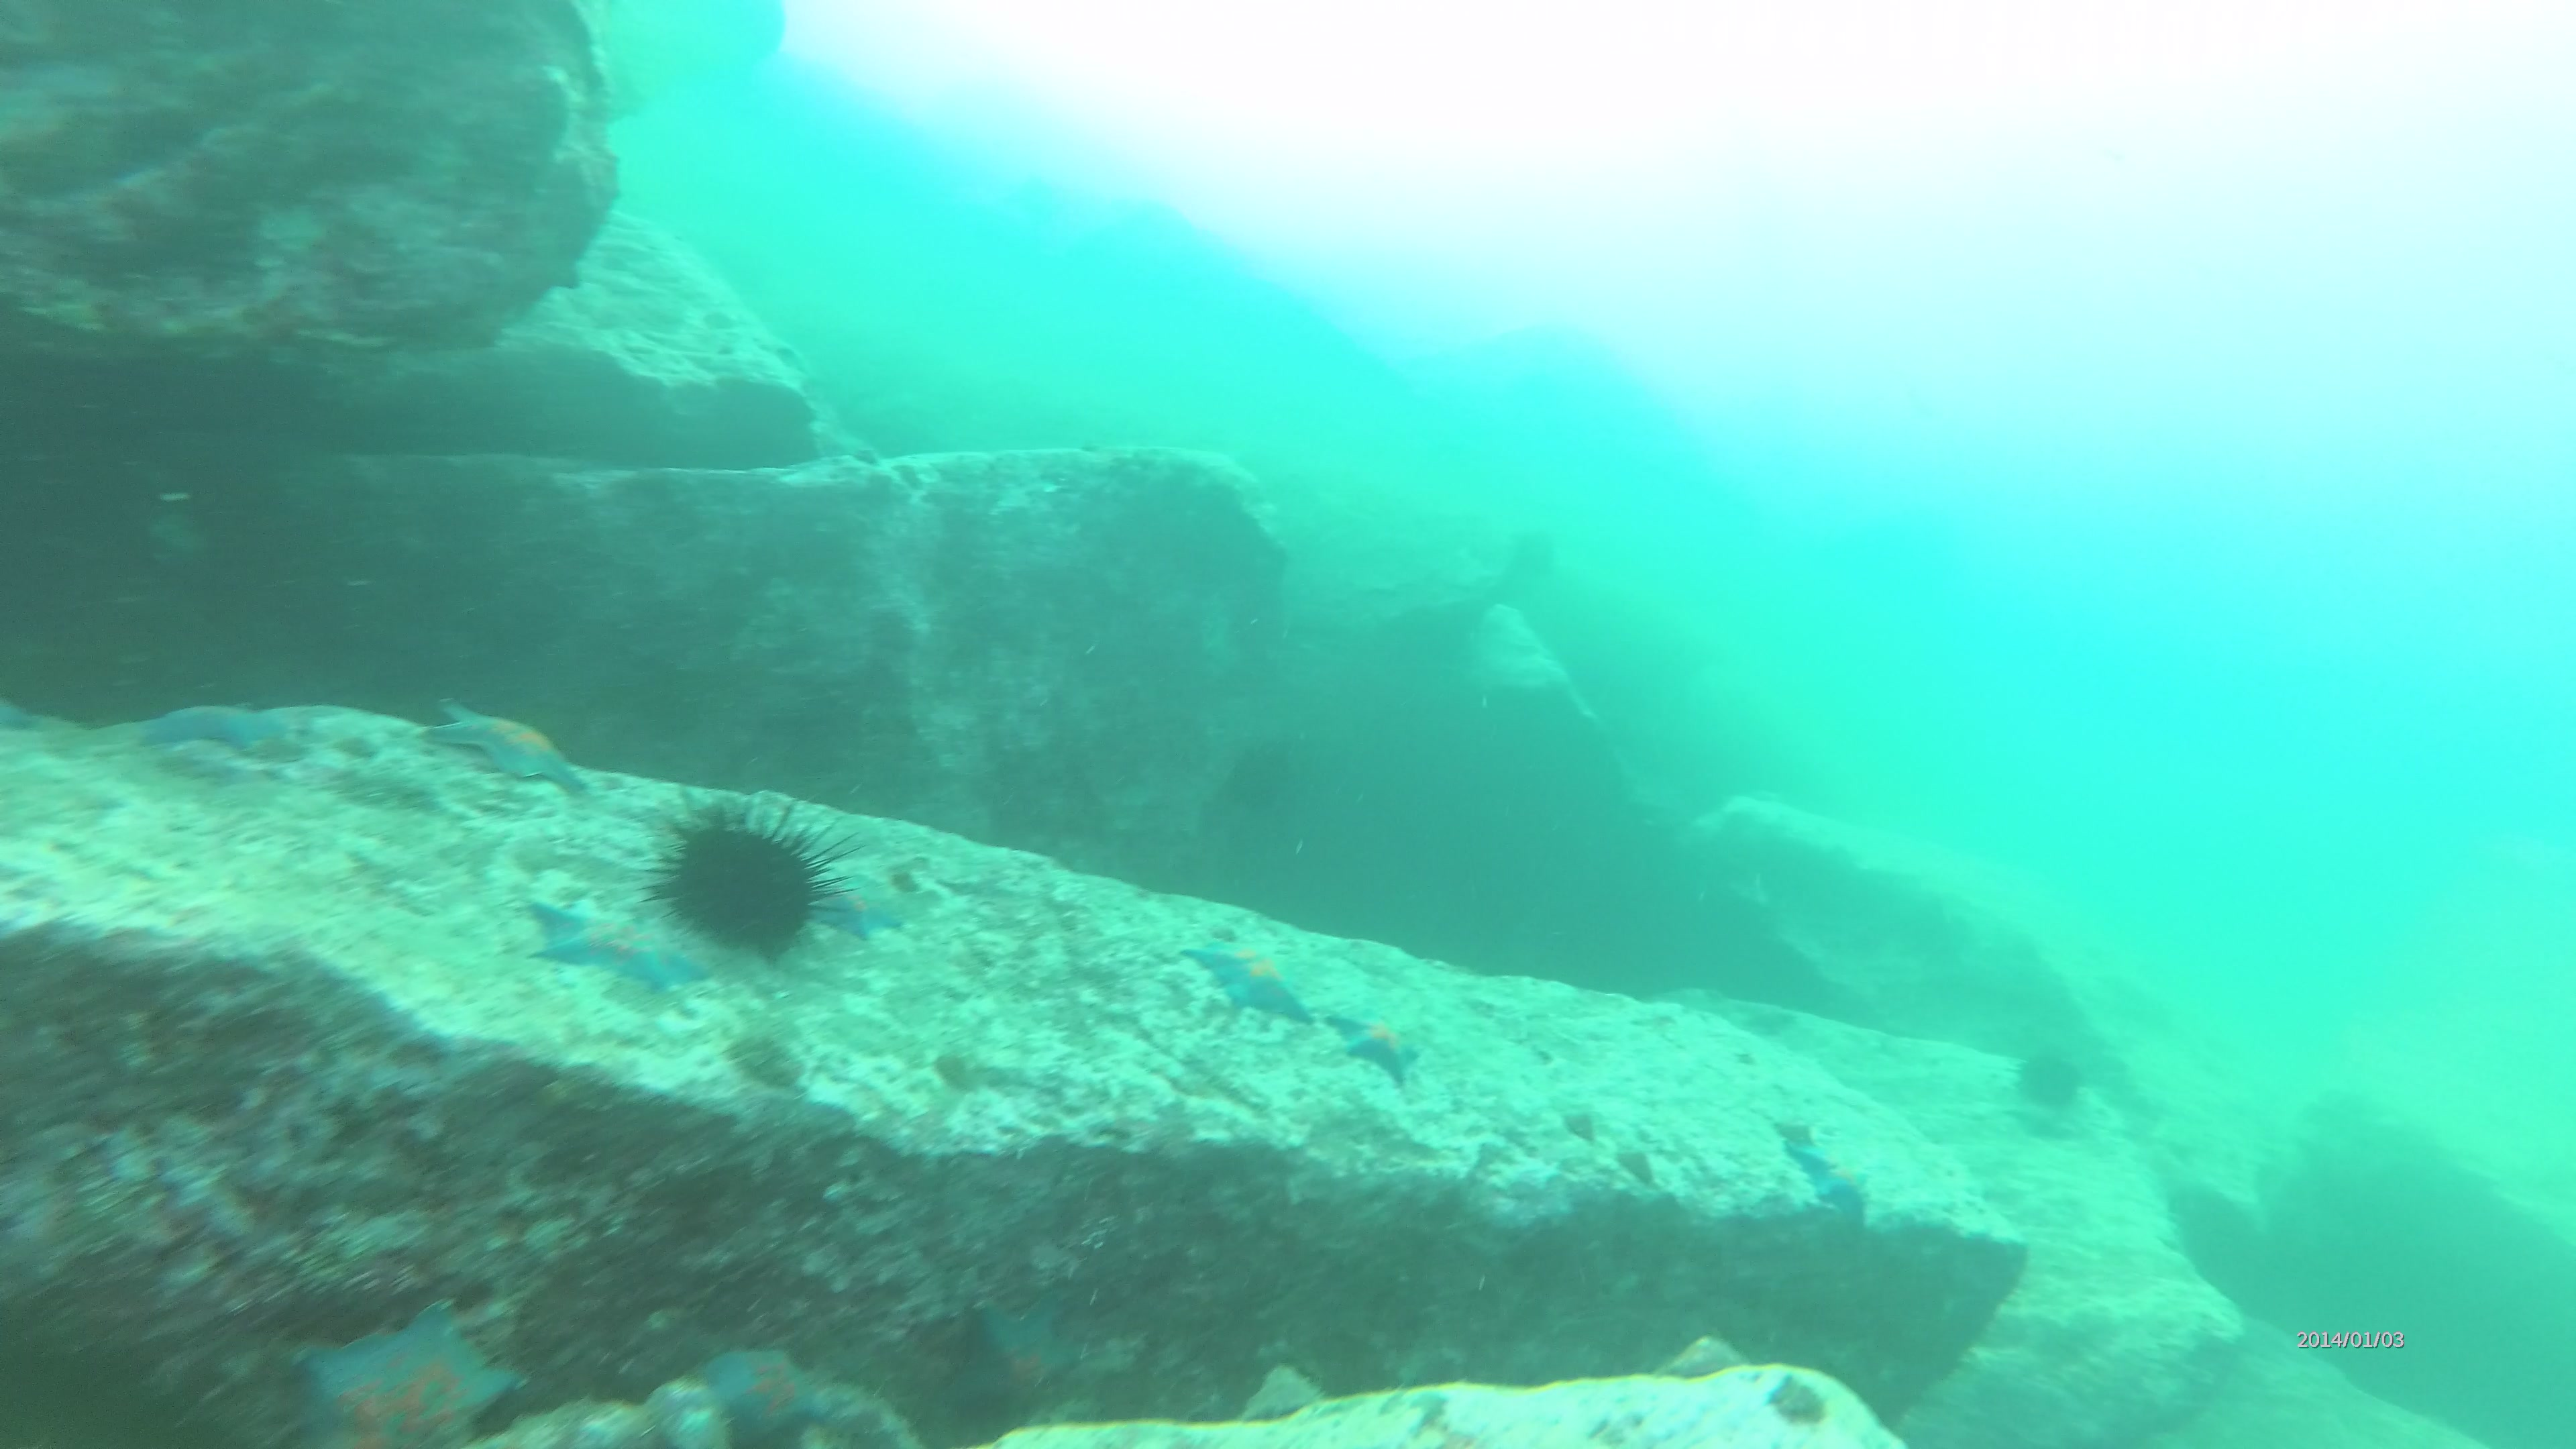echinus: (639, 778, 867, 962), (2015, 1035, 2097, 1123)
starfish: (272, 1304, 529, 1449), (522, 885, 717, 1003), (943, 1290, 1093, 1437), (421, 686, 596, 803), (692, 1336, 847, 1449), (1175, 936, 1318, 1033), (1783, 1127, 1882, 1247), (134, 688, 287, 759), (1329, 1003, 1433, 1086), (793, 870, 913, 936)
